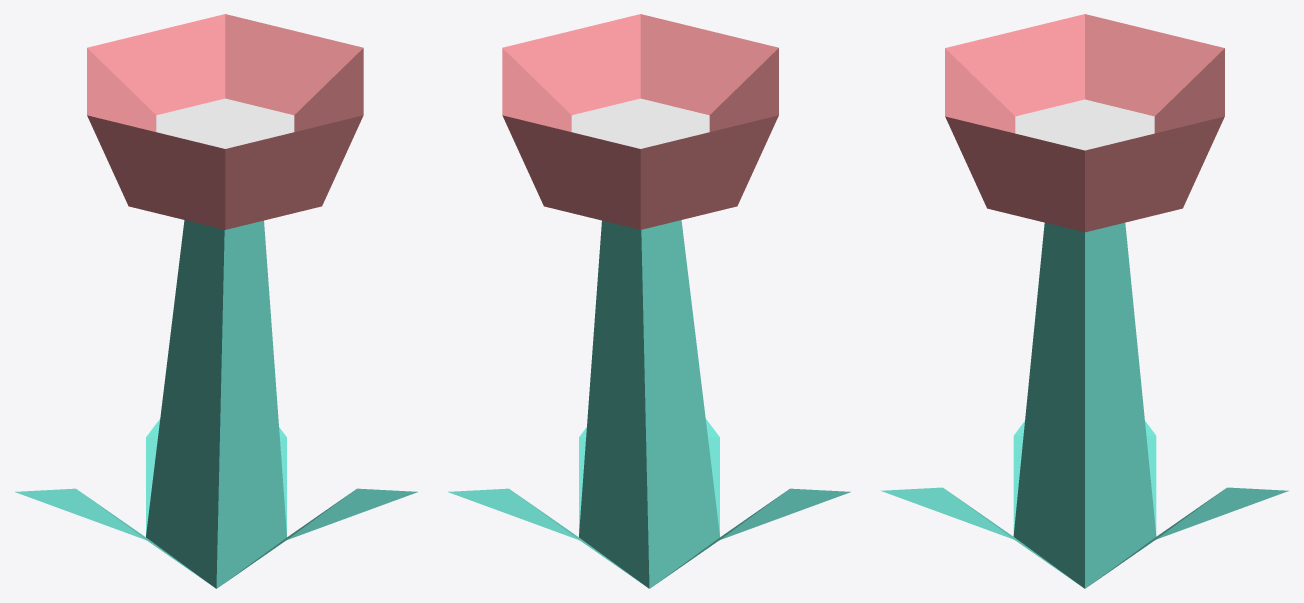
The model's file is flower_redC.glb.
3 renders of one model, left to right at view 1: azimuth 30°, elevation 25°; view 2: azimuth 150°, elevation 25°; view 3: azimuth 270°, elevation 25°, orthographic.
Visible parts, largest first — view 1: flower_redC; view 2: flower_redC; view 3: flower_redC.
Part boxes in pixels (x1,y1,x2,y2): flower_redC: [15, 14, 417, 588]; flower_redC: [448, 14, 850, 588]; flower_redC: [881, 14, 1288, 588].
Bounding box in the file's own units: 0.1806 × 0.2325 × 0.1811.
